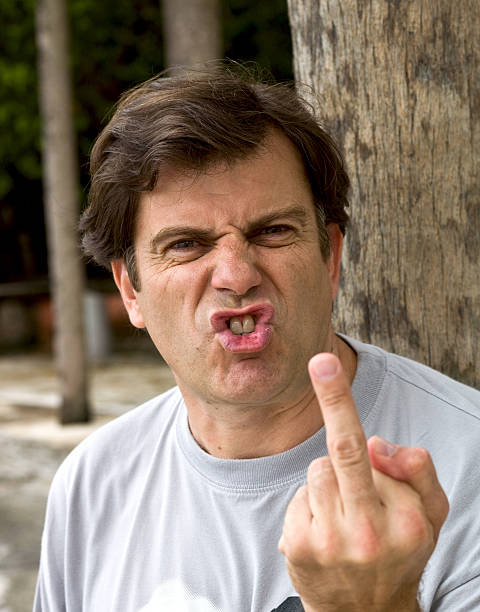insulting_gesture: (276, 349, 453, 612)
